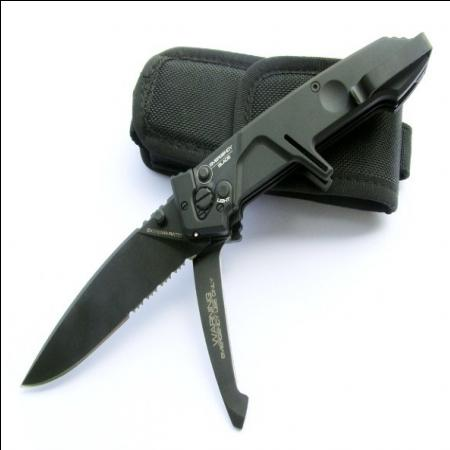long weapon: (15, 192, 188, 394)
